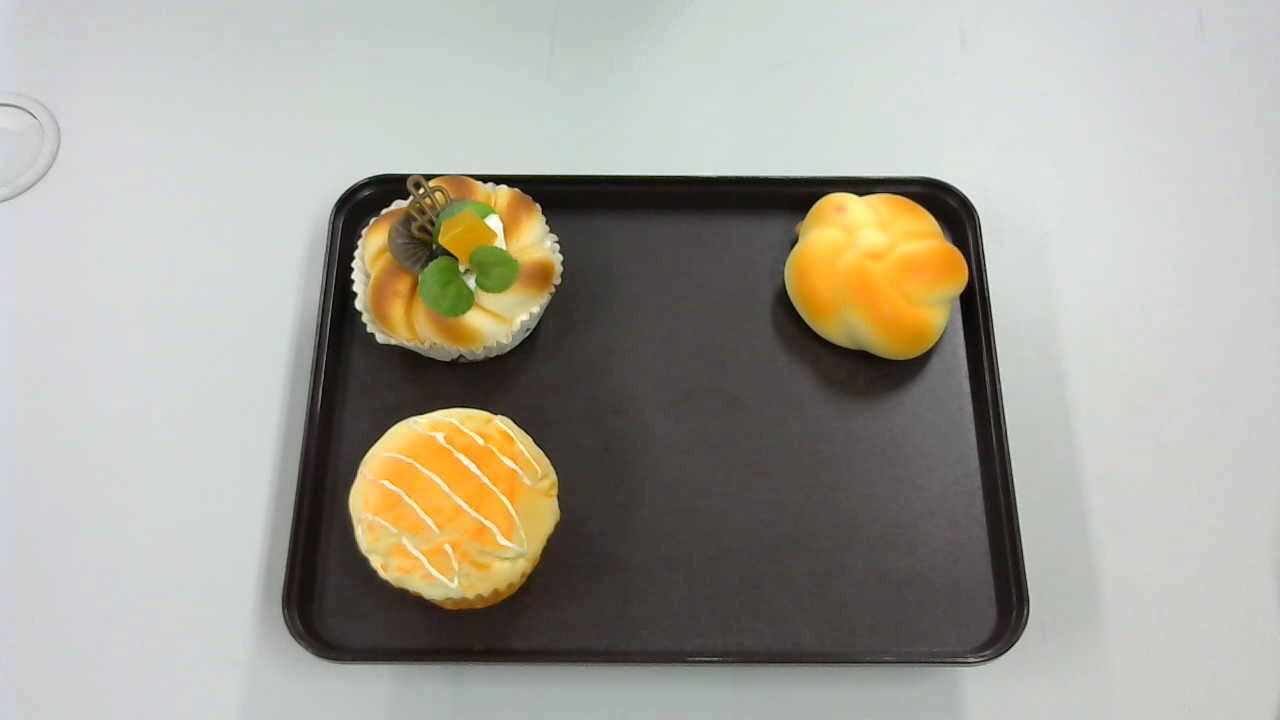croissant: (782, 192, 967, 361)
cupcake: (348, 407, 560, 611)
fruit tart: (351, 177, 564, 362)
